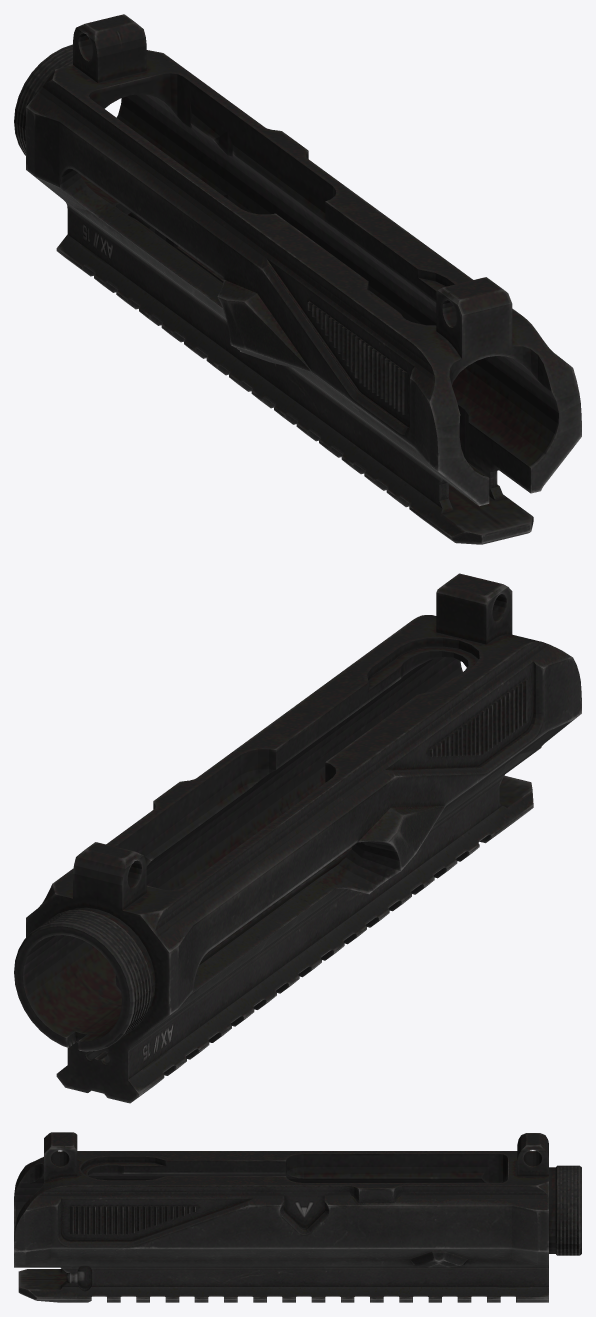
The picture shows the model from 3 angles, top to bottom: view 1: azimuth 30°, elevation 25°; view 2: azimuth 150°, elevation 25°; view 3: azimuth 270°, elevation 25°; orthographic projection. The views are drawn at different scales.
Parts seen in each view (by area): view 1: TW_63f5ed14534b2c3d5479a677_PZ_Import; view 2: TW_63f5ed14534b2c3d5479a677_PZ_Import; view 3: TW_63f5ed14534b2c3d5479a677_PZ_Import.
Part boxes in pixels (left/top/right/bottom): TW_63f5ed14534b2c3d5479a677_PZ_Import: left=14, top=14, right=581, bottom=544; TW_63f5ed14534b2c3d5479a677_PZ_Import: left=14, top=573, right=581, bottom=1103; TW_63f5ed14534b2c3d5479a677_PZ_Import: left=14, top=1132, right=581, bottom=1302.
Bounding box in the file's own units: 0.0233 × 0.1125 × 0.0334.
1 material, 1 textured.
